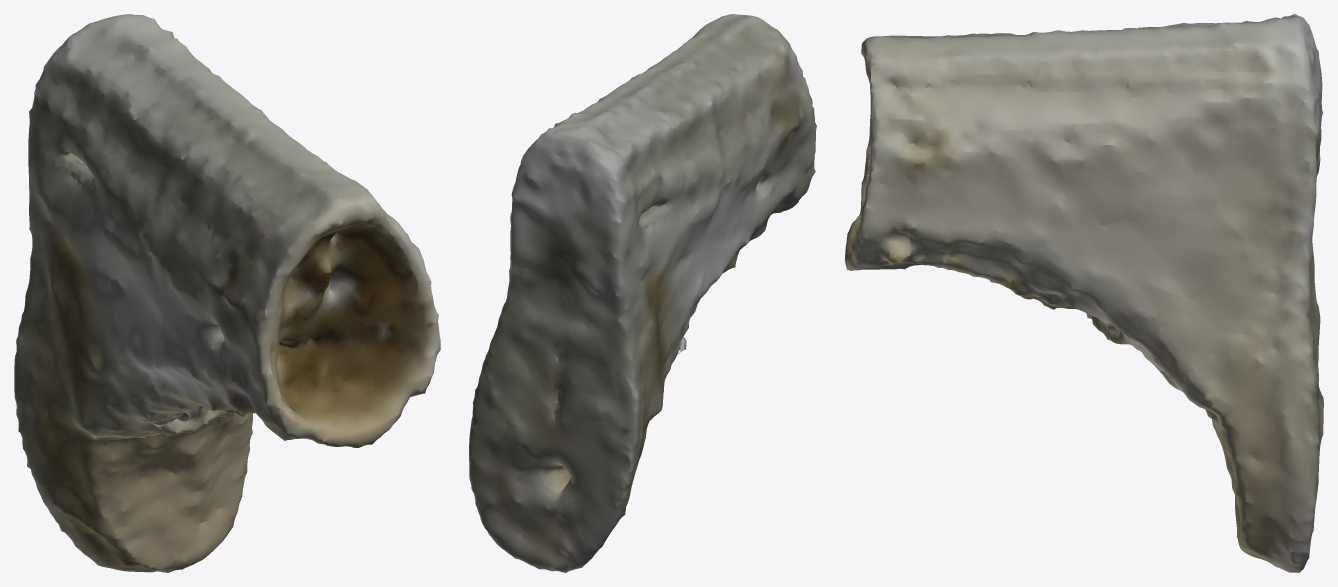
File: shoe1.glb
3 views of the same model, side by side, from view 1: azimuth 30°, elevation 25°; view 2: azimuth 150°, elevation 25°; view 3: azimuth 270°, elevation 25° (orthographic). The views are drawn at different scales.
Bounding box in the file's own units: 0.3975 × 0.9977 × 0.8262.
